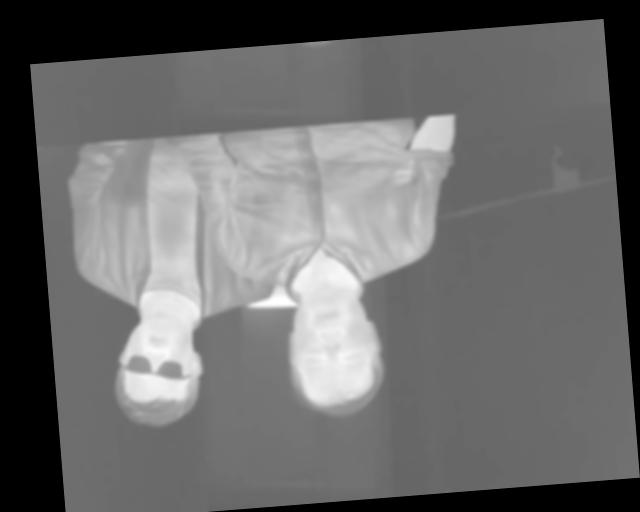face: (281, 281, 389, 422), (109, 311, 208, 431)
